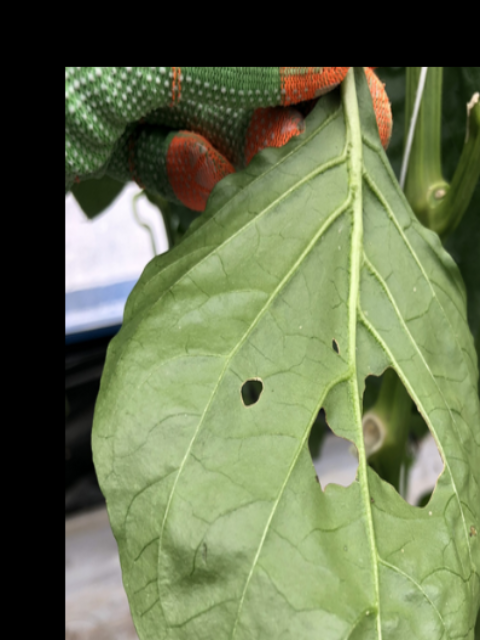snails_and_slugs: (361, 363, 445, 509), (307, 405, 359, 491), (239, 374, 265, 407), (330, 334, 341, 355)
